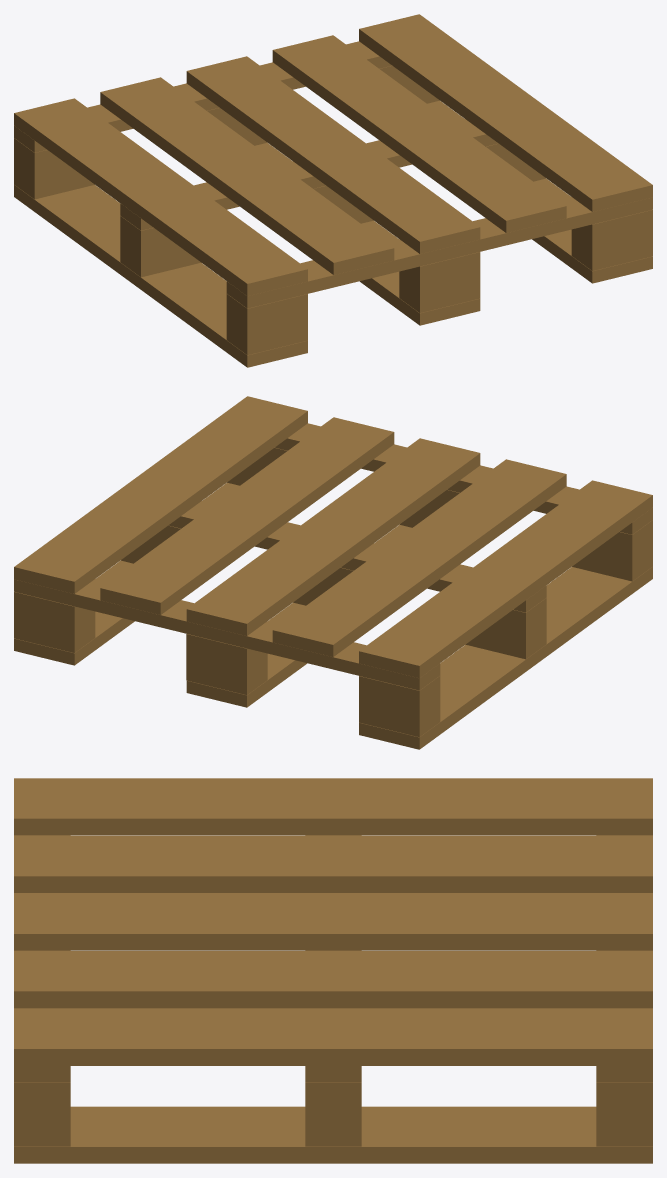
The model's file is pallet1.glb.
3 renders of one model, top to bottom at view 1: azimuth 30°, elevation 25°; view 2: azimuth 150°, elevation 25°; view 3: azimuth 270°, elevation 25°, orthographic. The views are drawn at different scales.
Visible parts, largest first — view 1: Cube.001, Cube, Cube.003, Cube.002, Cube.004, Cube.019, Cube.007, Cube.015, Cube.012, Cube.009, Cube.014, Cube.016 (+8 smaller); view 2: Cube.001, Cube.003, Cube, Cube.002, Cube.004, Cube.019, Cube.006, Cube.016, Cube.011, Cube.010, Cube.014, Cube.015 (+8 smaller); view 3: Cube, Cube.001, Cube.002, Cube.003, Cube.004, Cube.017, Cube.008, Cube.009, Cube.010, Cube.005, Cube.006, Cube.007.
Part boxes in pixels (<box>): Cube.001: <box>100,77,394,274</box>; Cube: <box>186,56,480,253</box>; Cube.003: <box>272,35,566,232</box>; Cube.002: <box>14,98,307,296</box>; Cube.004: <box>359,14,652,211</box>; Cube.019: <box>14,184,307,367</box>; Cube.007: <box>226,197,652,308</box>; Cube.015: <box>226,294,307,355</box>; Cube.012: <box>399,252,480,312</box>; Cube.009: <box>571,210,652,270</box>; Cube.014: <box>120,216,200,277</box>; Cube.016: <box>14,138,94,199</box>; Cube.001: <box>272,459,566,656</box>; Cube.003: <box>100,417,394,614</box>; Cube: <box>186,438,480,635</box>; Cube.002: <box>359,480,652,678</box>; Cube.004: <box>14,396,307,593</box>; Cube.019: <box>359,566,652,749</box>; Cube.006: <box>14,579,440,690</box>; Cube.016: <box>359,676,440,737</box>; Cube.011: <box>186,634,267,694</box>; Cube.010: <box>14,592,95,652</box>; Cube.014: <box>466,598,546,659</box>; Cube.015: <box>572,520,652,581</box>; Cube: <box>14,893,652,950</box>; Cube.001: <box>14,835,652,892</box>; Cube.002: <box>14,778,652,835</box>; Cube.003: <box>14,951,652,1008</box>; Cube.004: <box>14,1008,652,1065</box>; Cube.017: <box>14,1106,652,1163</box>; Cube.008: <box>305,1082,361,1146</box>; Cube.009: <box>14,1082,70,1146</box>; Cube.010: <box>596,1082,652,1146</box>; Cube.005: <box>305,835,361,1082</box>; Cube.006: <box>596,835,652,1082</box>; Cube.007: <box>14,835,70,1082</box>.
Size of the model in its own units: 4.23 by 0.836 by 4.22.
